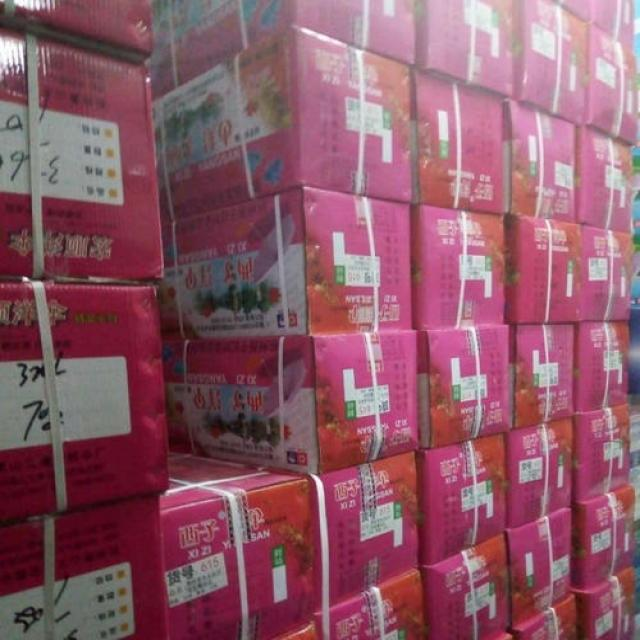box: (150, 24, 412, 229), (0, 23, 163, 277), (0, 282, 170, 522), (163, 185, 412, 340), (164, 330, 419, 476), (159, 449, 312, 639), (146, 3, 418, 95), (4, 494, 169, 639), (308, 452, 419, 617), (412, 73, 508, 213), (417, 433, 507, 564), (411, 207, 506, 331), (415, 326, 509, 450), (416, 0, 520, 100), (269, 571, 426, 637), (515, 1, 591, 127), (504, 101, 579, 224), (422, 535, 509, 640), (1, 1, 153, 60), (507, 215, 579, 326), (507, 417, 573, 530), (509, 507, 572, 625), (509, 324, 576, 433), (582, 22, 635, 143), (573, 485, 632, 587), (579, 127, 631, 235), (576, 226, 632, 325), (573, 406, 628, 503), (576, 321, 630, 414), (576, 567, 635, 638), (517, 596, 577, 639)
